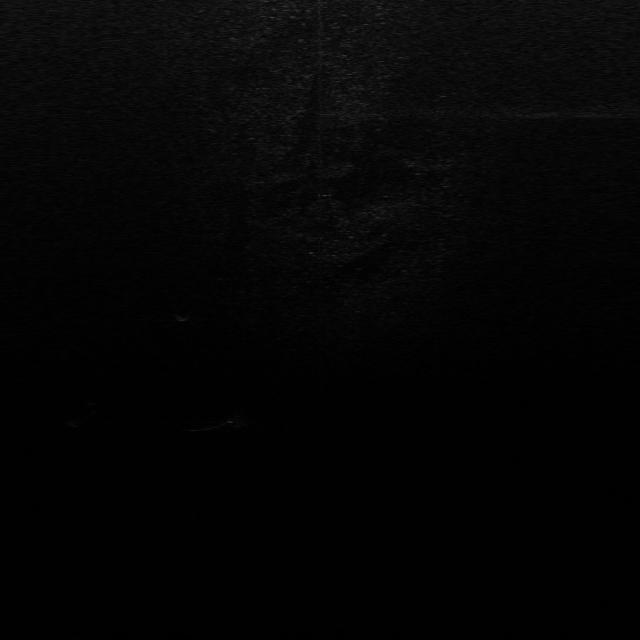ball: (171, 305, 198, 323)
circle cage: (66, 404, 106, 427), (217, 407, 252, 431)
